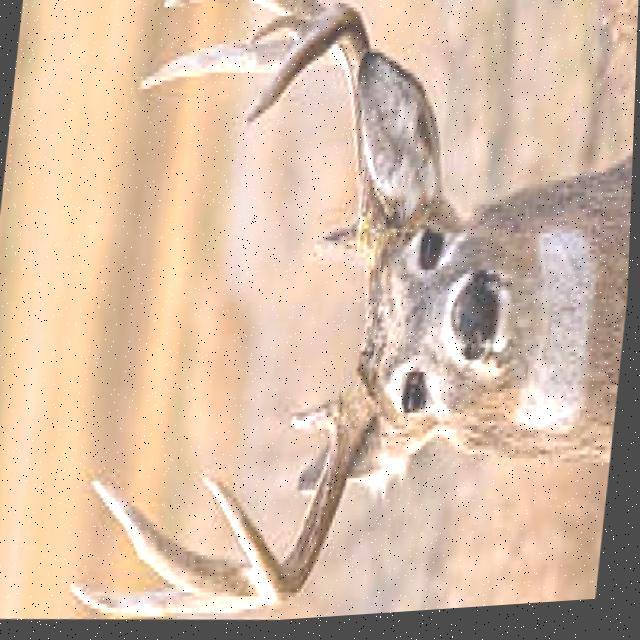E1: (247, 18, 312, 52)
L-F: (242, 9, 395, 279)
L-G1: (311, 227, 363, 267)
R-F: (200, 371, 381, 611)
R-G1: (290, 399, 348, 438)
R-G3: (92, 471, 272, 612)
